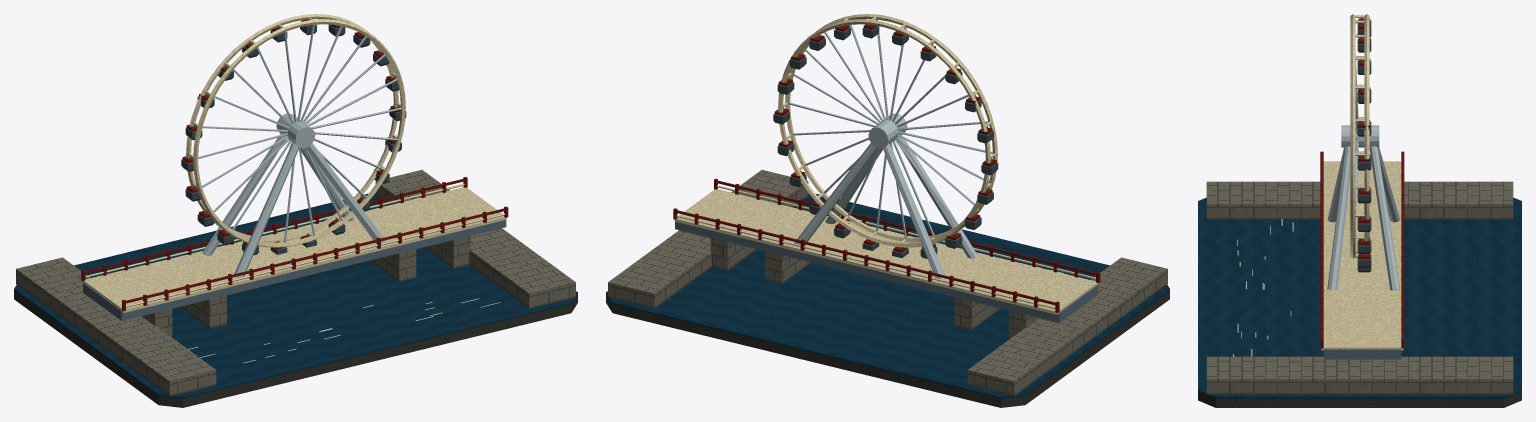
File: tianjin-eye.glb
3 views of the same model, side by side, from view 1: azimuth 30°, elevation 25°; view 2: azimuth 150°, elevation 25°; view 3: azimuth 270°, elevation 25° (orthographic).
Visible parts, largest first — view 1: 天津之眼; view 2: 天津之眼; view 3: 天津之眼.
Boxes of the visible parts, box(x1,y1,x2,y2) form: 天津之眼: box(14, 14, 577, 407); 天津之眼: box(606, 14, 1169, 407); 天津之眼: box(1198, 14, 1521, 407).
Bounding box in the file's own units: 10.8 × 6.93 × 7.25.
Materials: 9 (5 with a texture image).
